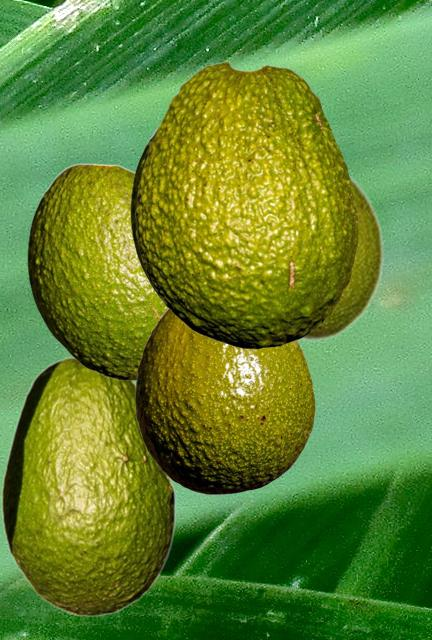avocado: (135, 61, 357, 348), (1, 356, 175, 616), (135, 309, 314, 493), (27, 163, 166, 379), (130, 121, 226, 344), (299, 171, 384, 342)
